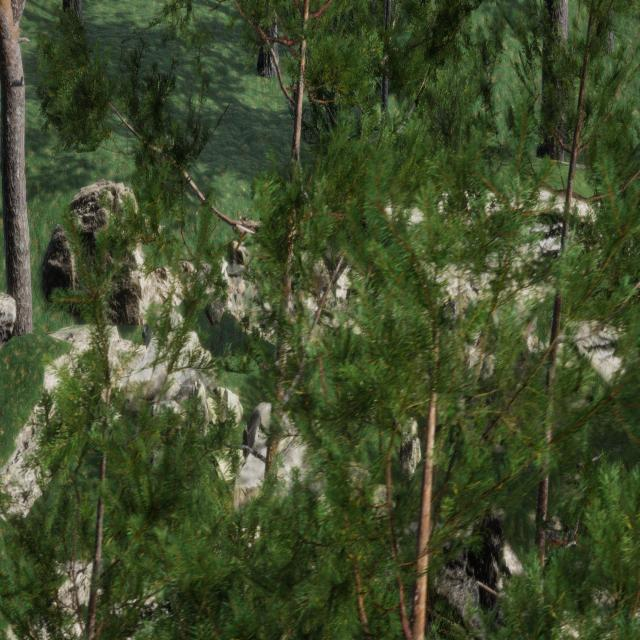Human: (260, 310, 282, 382)
